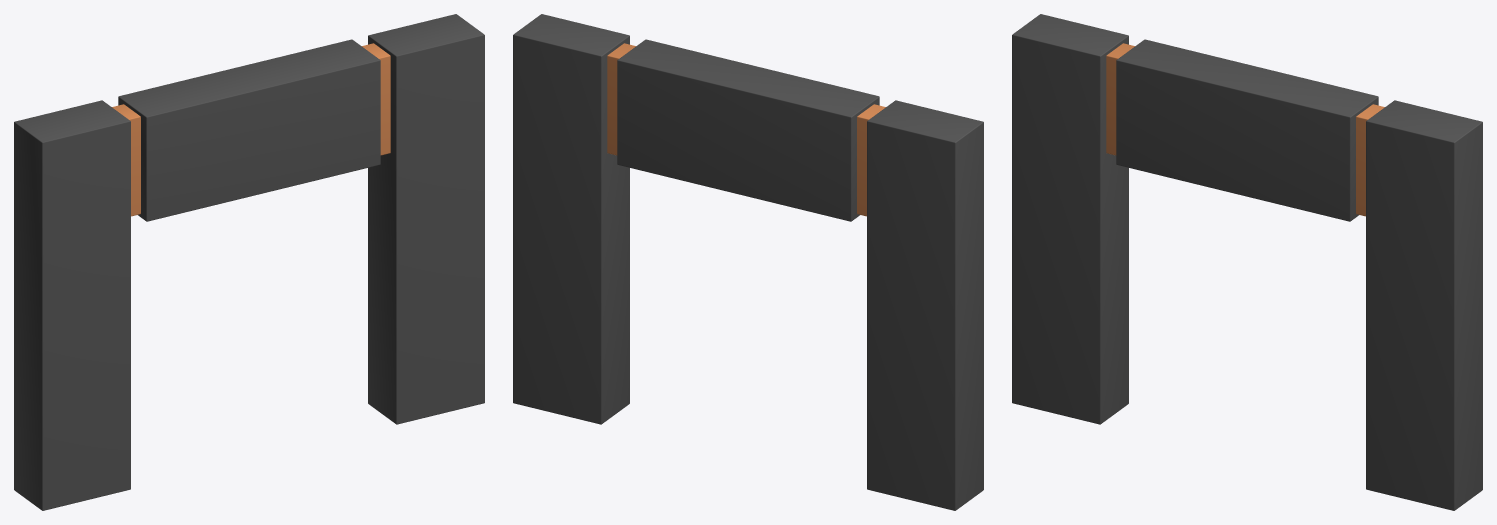
Rendered from SM_Arch_01.FBX.
The picture shows the model from 3 angles, left to right: view 1: azimuth 30°, elevation 25°; view 2: azimuth 150°, elevation 25°; view 3: azimuth 330°, elevation 25°; orthographic projection.
Visible parts, largest first — view 1: arch; view 2: arch; view 3: arch.
Boxes of the visible parts, bbox=[...] form: arch: bbox=[14, 14, 484, 510]; arch: bbox=[513, 14, 983, 510]; arch: bbox=[1012, 14, 1482, 510].
Bounding box in the file's own units: 798 × 635 × 89.35.
